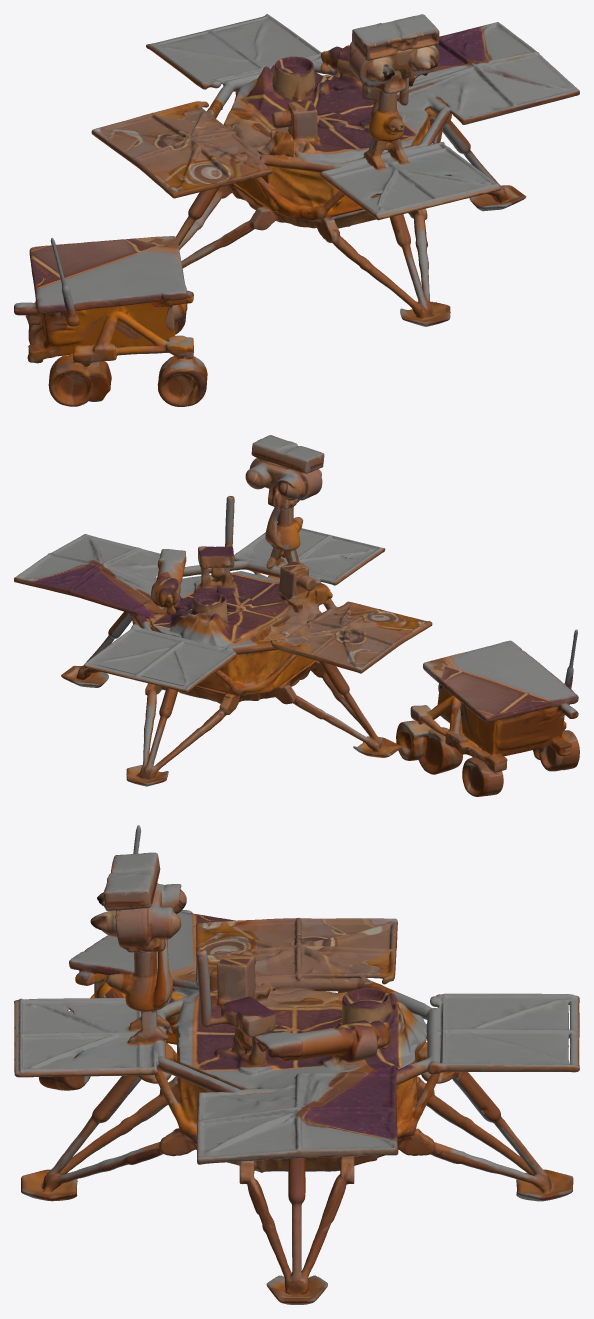
Rendered from mars-pathfinder-sojourner.meshopt-test.glb.
3 views of the same model, one above another, from view 1: azimuth 30°, elevation 25°; view 2: azimuth 150°, elevation 25°; view 3: azimuth 270°, elevation 25° (orthographic). The views are drawn at different scales.
Parts seen in each view (by area): view 1: tripo_node_93e1bb84-82d2-496b-887b-ec0ac08e1828; view 2: tripo_node_93e1bb84-82d2-496b-887b-ec0ac08e1828; view 3: tripo_node_93e1bb84-82d2-496b-887b-ec0ac08e1828.
Boxes of the visible parts, x1,y1,x2,y2 form: tripo_node_93e1bb84-82d2-496b-887b-ec0ac08e1828: (14, 14, 579, 406); tripo_node_93e1bb84-82d2-496b-887b-ec0ac08e1828: (14, 435, 579, 796); tripo_node_93e1bb84-82d2-496b-887b-ec0ac08e1828: (14, 825, 579, 1304).
Bounding box in the file's own units: 1 × 0.4975 × 0.7031.
Materials: 1 (1 with a texture image).
